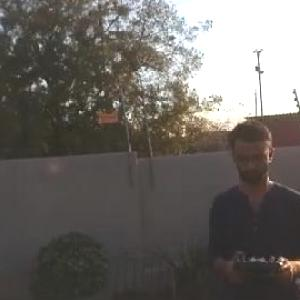follow: (202, 111, 300, 299)
